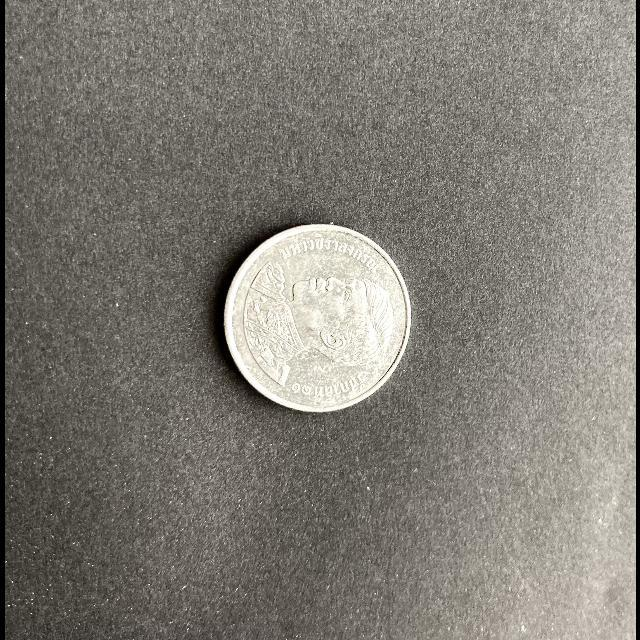1 Bath: (221, 219, 417, 417)
